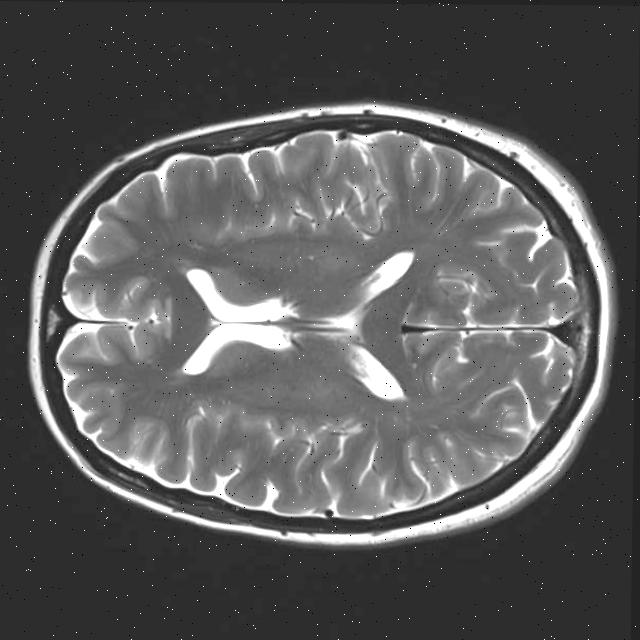NoTumor: (23, 89, 623, 550)
